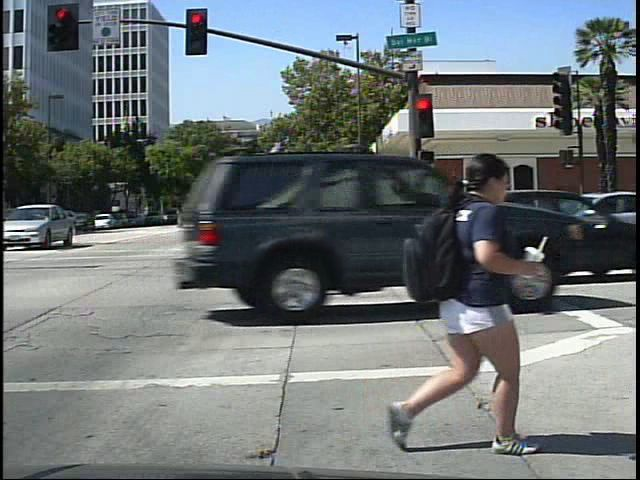person: (371, 130, 550, 458)
